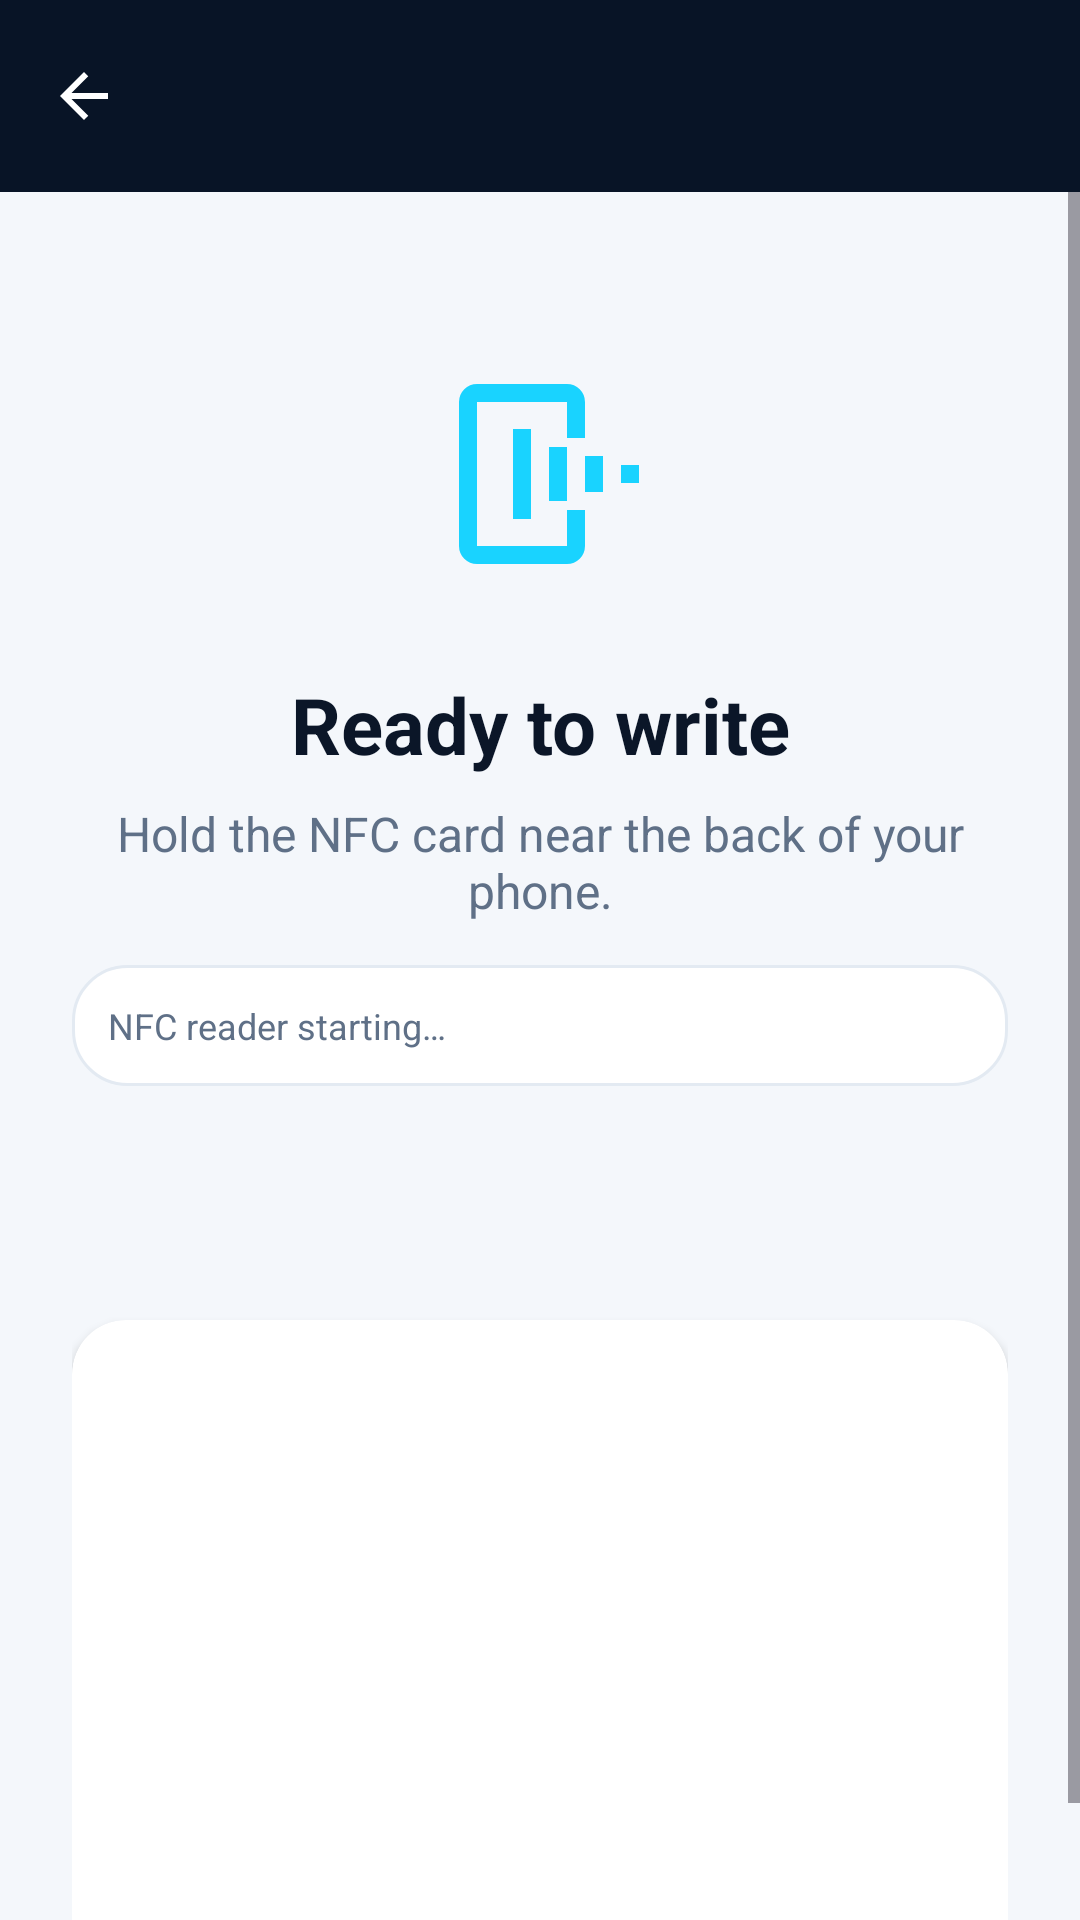

Named icons in this screenshot (1080w x 1920h) and their bounding boxes, (x1, y1, x2, y2):
NFC: (459, 384, 639, 564)
